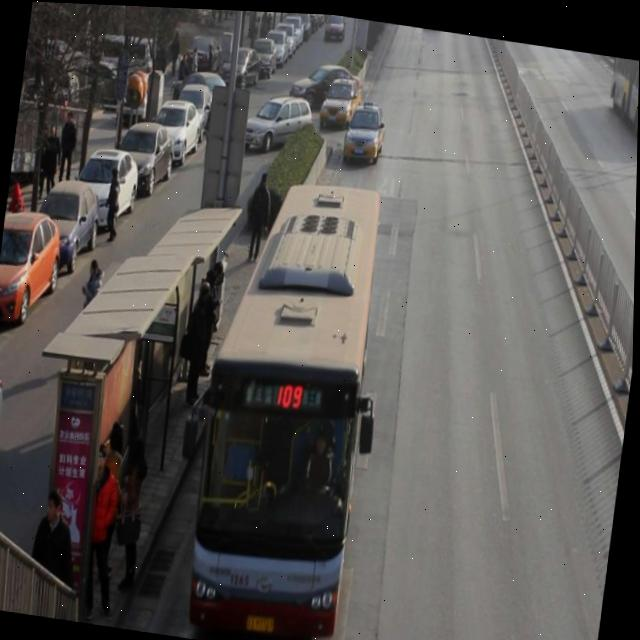car: (342, 97, 387, 166), (318, 72, 363, 132)
van: (182, 167, 387, 631), (602, 50, 639, 140)
